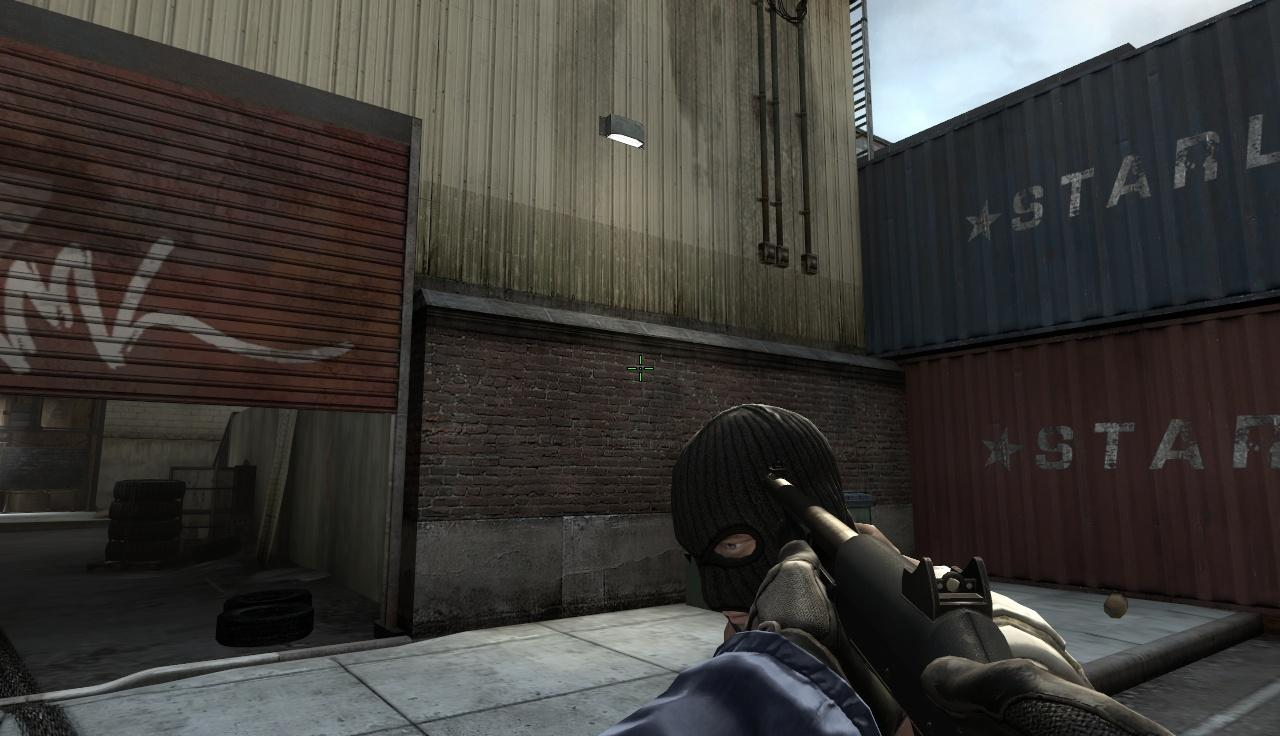shotgun: (751, 477, 1142, 736)
tthead: (673, 405, 855, 619)
